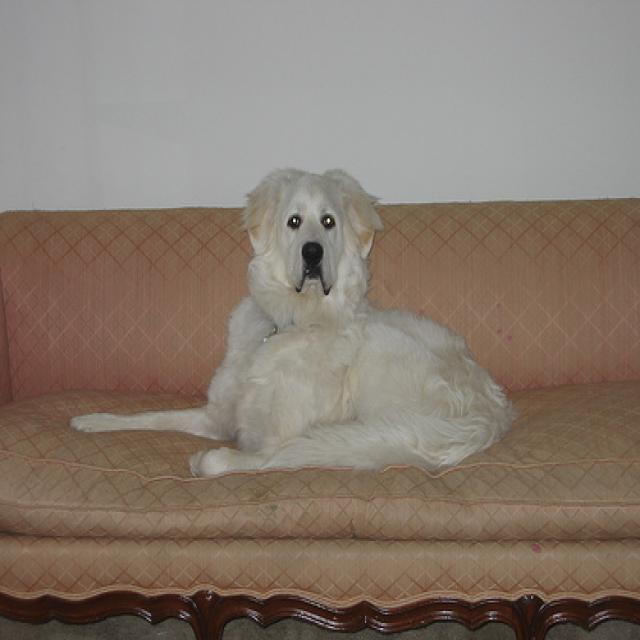dog-great_pyrenees: (60, 160, 509, 493)
